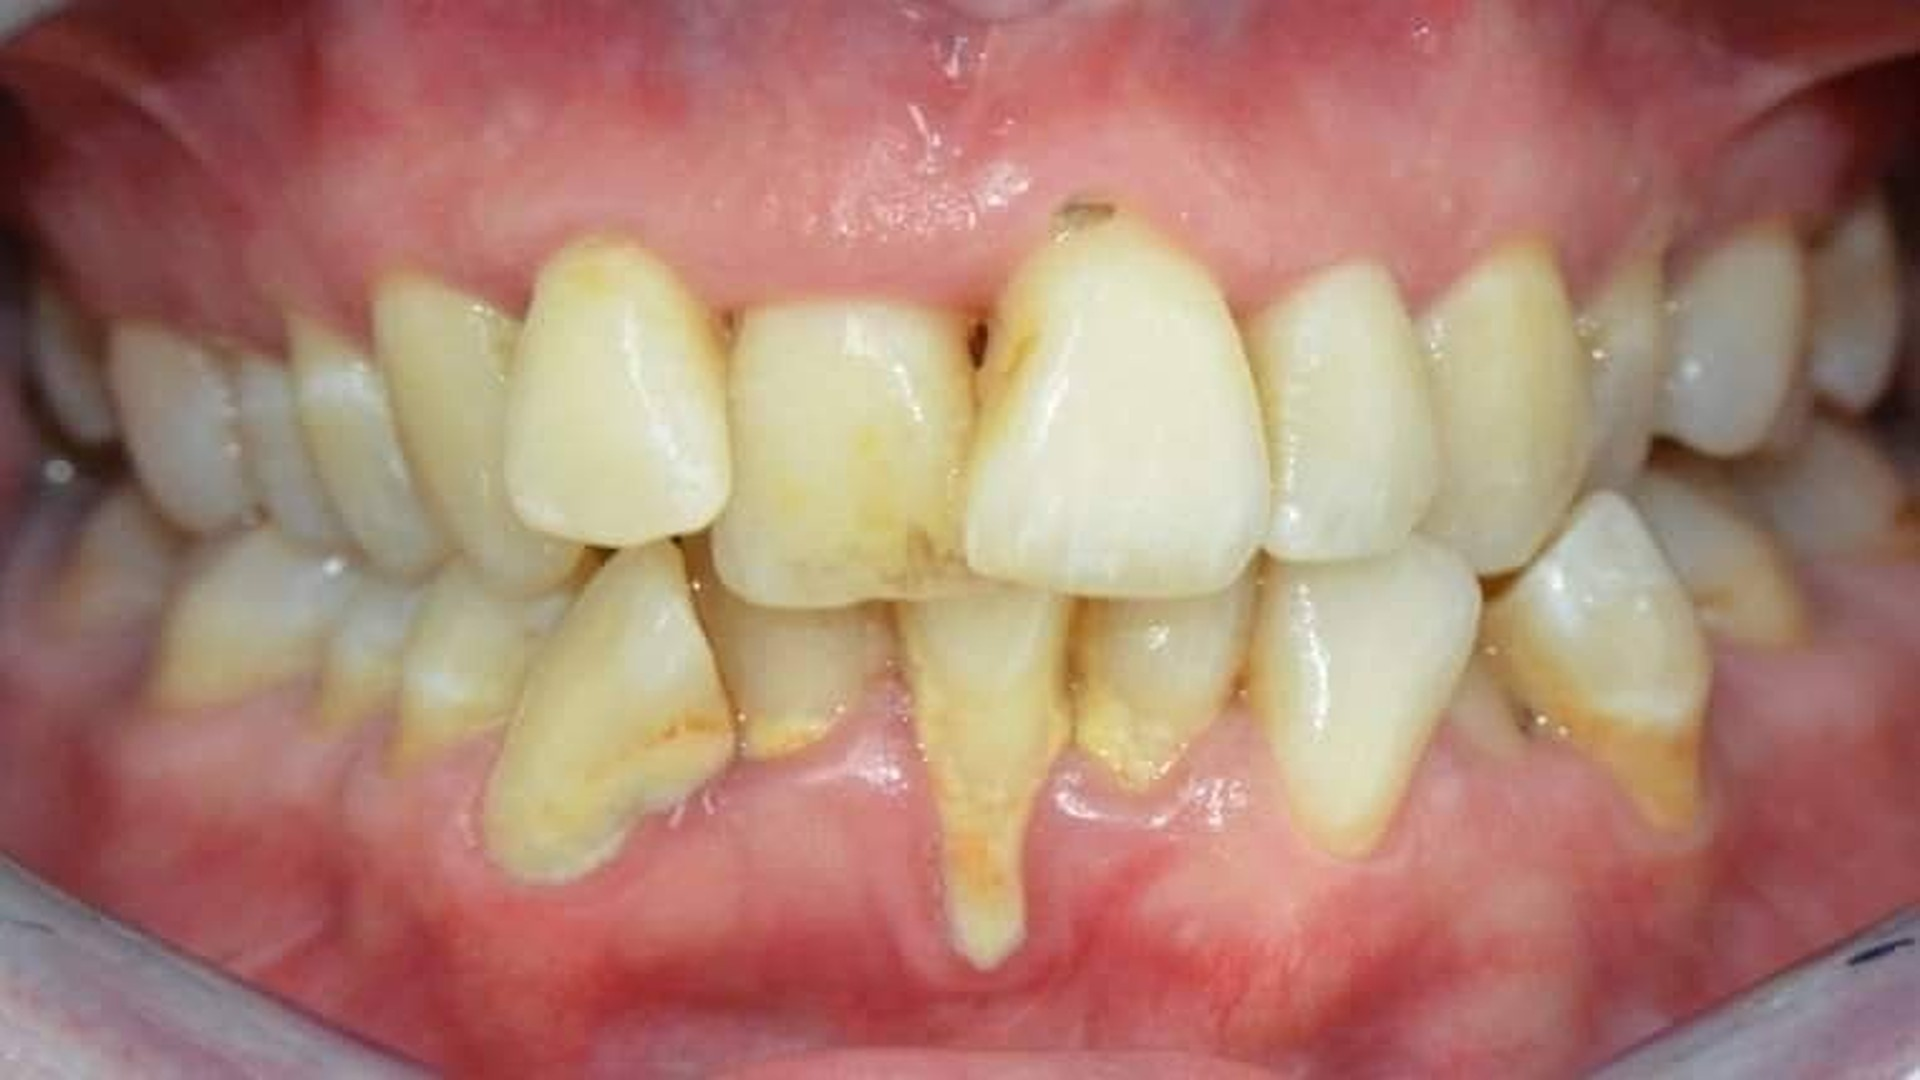tooth: (963, 206, 1270, 598), (483, 541, 738, 886), (710, 301, 976, 609), (1247, 533, 1478, 860), (1493, 489, 1711, 832), (378, 274, 607, 598), (504, 234, 732, 548), (893, 585, 1072, 970), (1414, 243, 1594, 573), (1238, 263, 1435, 561), (1063, 554, 1262, 785), (681, 531, 877, 761), (289, 314, 450, 579), (400, 557, 584, 752), (1654, 221, 1802, 458), (159, 531, 335, 707), (240, 354, 363, 565), (1573, 254, 1660, 495)
